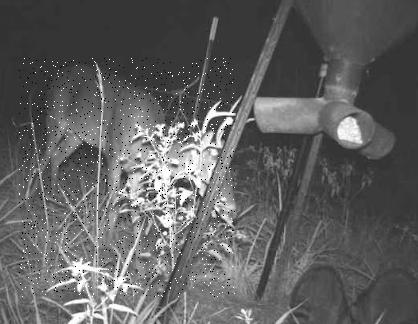Deer: (19, 58, 235, 297)
